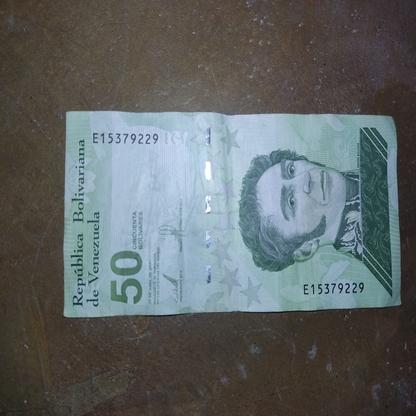fifty-front-vef: (63, 110, 401, 317)
